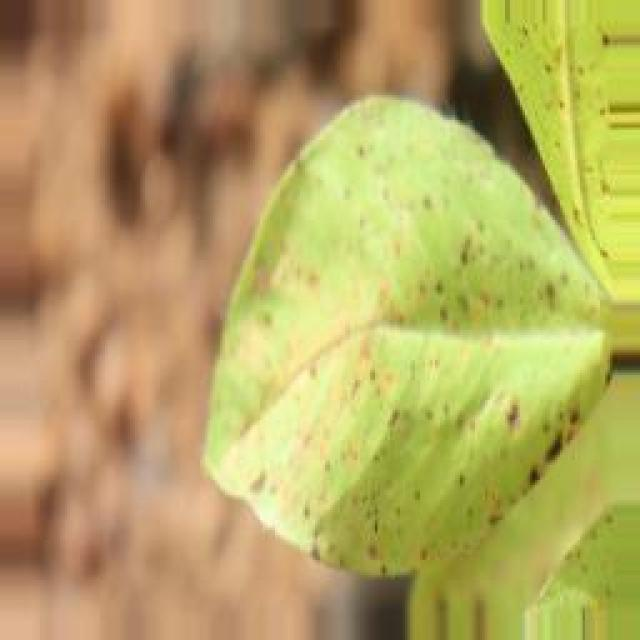Yellowish: (195, 0, 640, 595)
